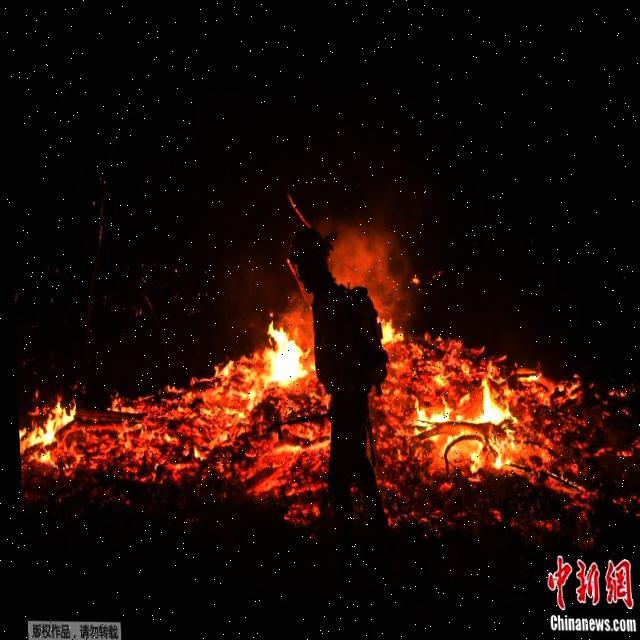Fire: (11, 290, 639, 548)
